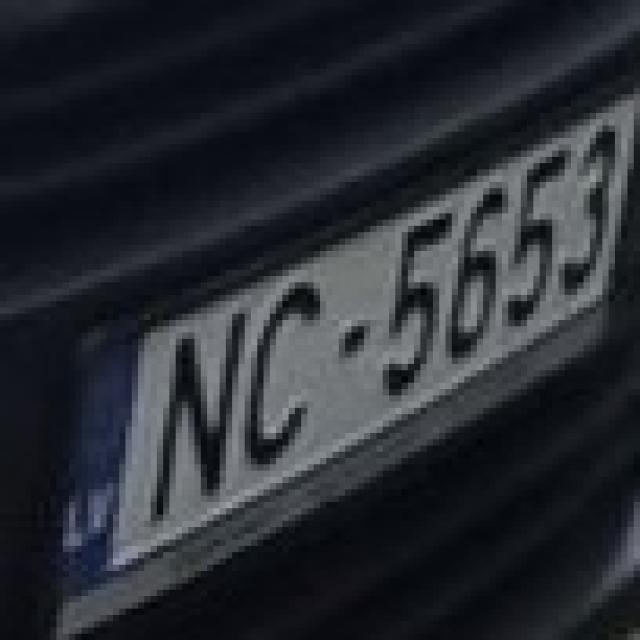3: (546, 107, 622, 295)
4: (546, 452, 628, 634)
5: (364, 188, 452, 396), (496, 125, 564, 320)
6: (426, 163, 508, 364)
C: (225, 257, 332, 471)
N: (132, 282, 251, 527)
